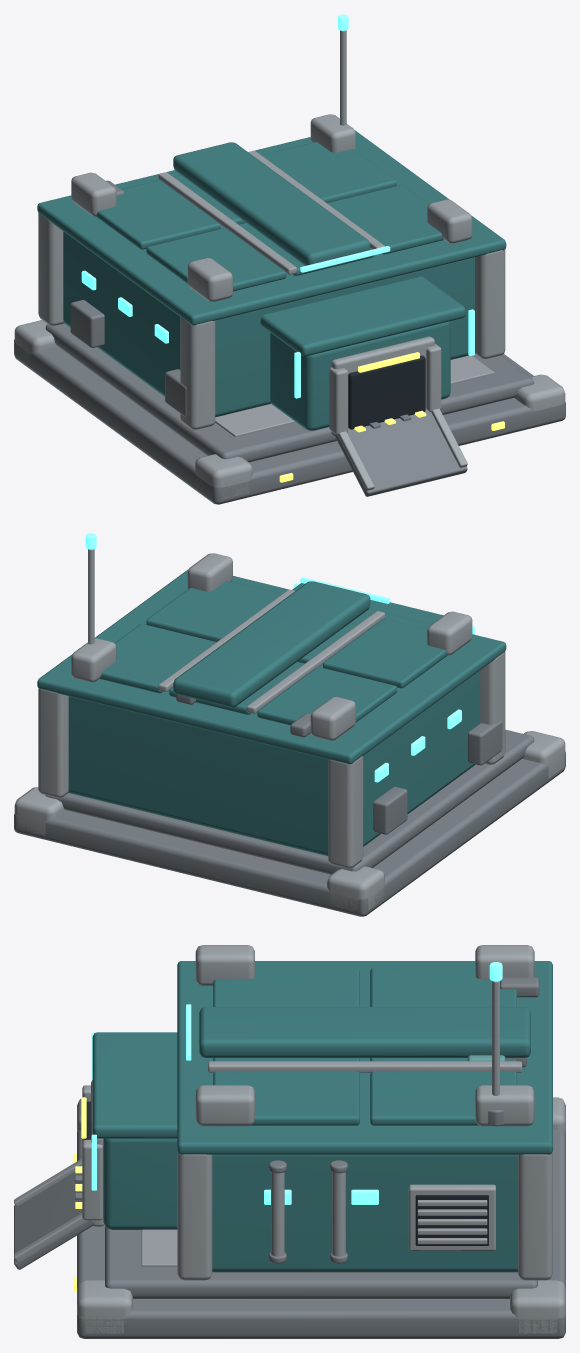
Rendered from meridian-barracks.glb.
3 renders of one model, top to bottom at view 1: azimuth 30°, elevation 25°; view 2: azimuth 150°, elevation 25°; view 3: azimuth 270°, elevation 25°, orthographic. The views are drawn at different scales.
Parts seen in each view (by area): view 1: BarracksBodyMesh; view 2: BarracksBodyMesh; view 3: BarracksBodyMesh.
Part boxes in pixels (left/top/right/bottom): BarracksBodyMesh: left=14, top=14, right=565, bottom=504; BarracksBodyMesh: left=14, top=533, right=565, bottom=916; BarracksBodyMesh: left=14, top=945, right=565, bottom=1338.
Size of the model in its own units: 2.8 by 2.22 by 3.16.
